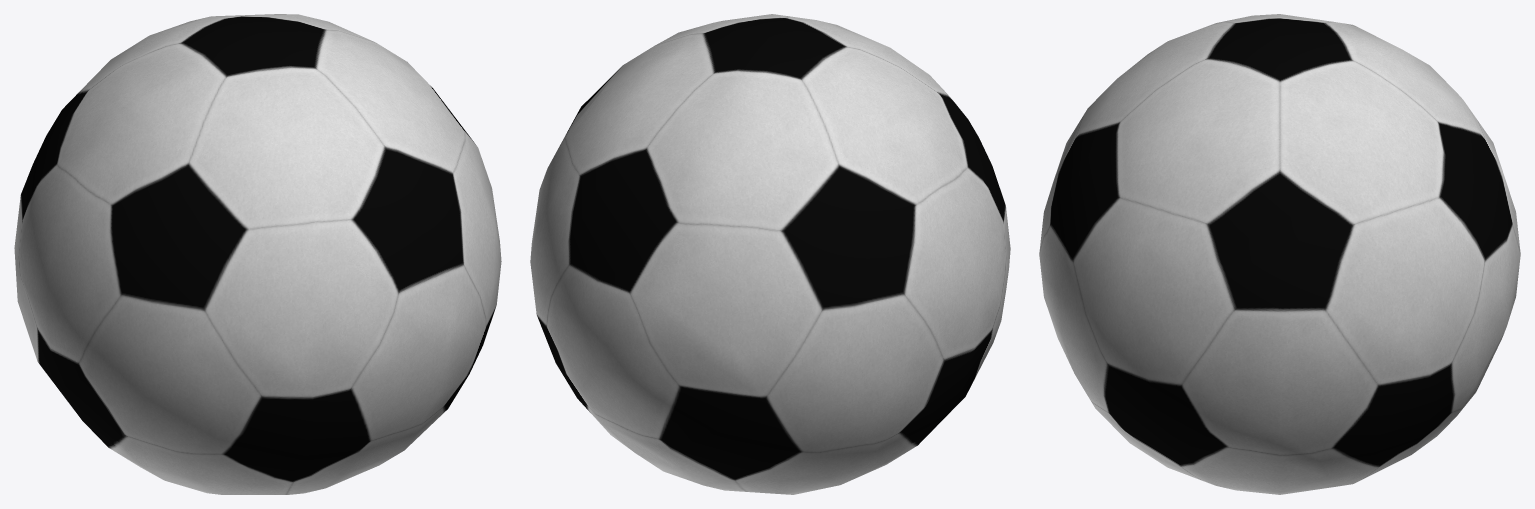
Rendered from soccer_LOD1.fbx.
The picture shows the model from 3 angles, left to right: view 1: azimuth 30°, elevation 25°; view 2: azimuth 150°, elevation 25°; view 3: azimuth 270°, elevation 25°; orthographic projection.
Parts seen in each view (by area): view 1: Soccer; view 2: Soccer; view 3: Soccer.
Part boxes in pixels (x1=…): Soccer: x1=14, y1=14, x2=501, y2=494; Soccer: x1=530, y1=14, x2=1010, y2=494; Soccer: x1=1039, y1=14, x2=1520, y2=494.
Bounding box in the file's own units: 148 × 148 × 148.
1 material, 1 textured.
